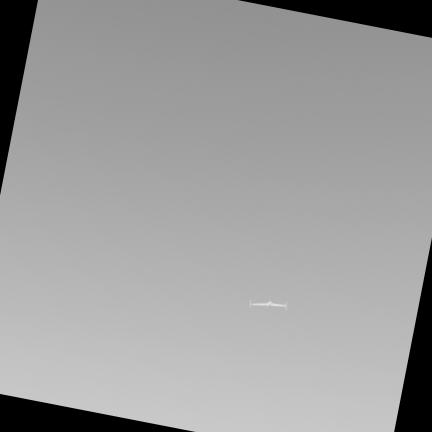Shahed: (250, 301, 287, 309)
